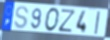4: (75, 10, 88, 35)
9: (30, 7, 44, 30)
I: (93, 11, 101, 36)
O: (44, 7, 61, 33)
S: (13, 5, 30, 30)
Z: (58, 8, 77, 34)
